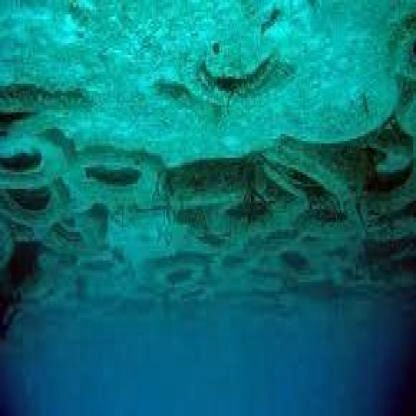tire: (172, 160, 283, 239), (63, 141, 164, 203), (2, 120, 86, 191), (262, 134, 346, 203), (358, 140, 416, 210), (3, 174, 67, 224), (141, 254, 205, 289), (302, 204, 362, 235)
